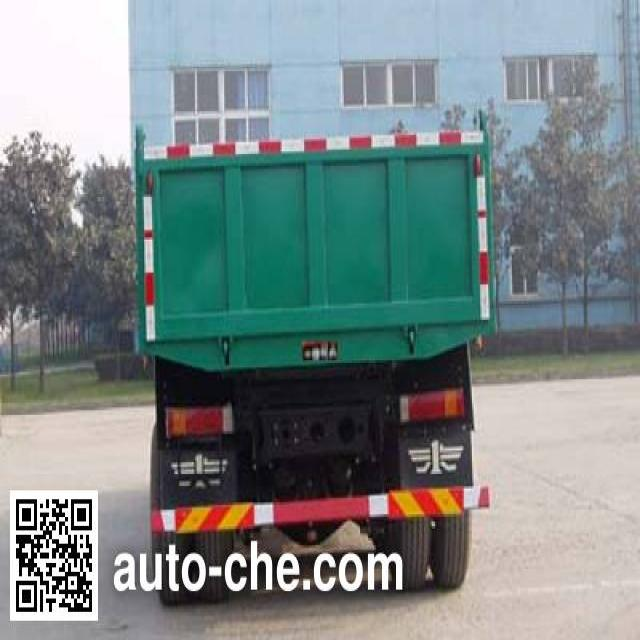normal_truck: (129, 106, 499, 604)
